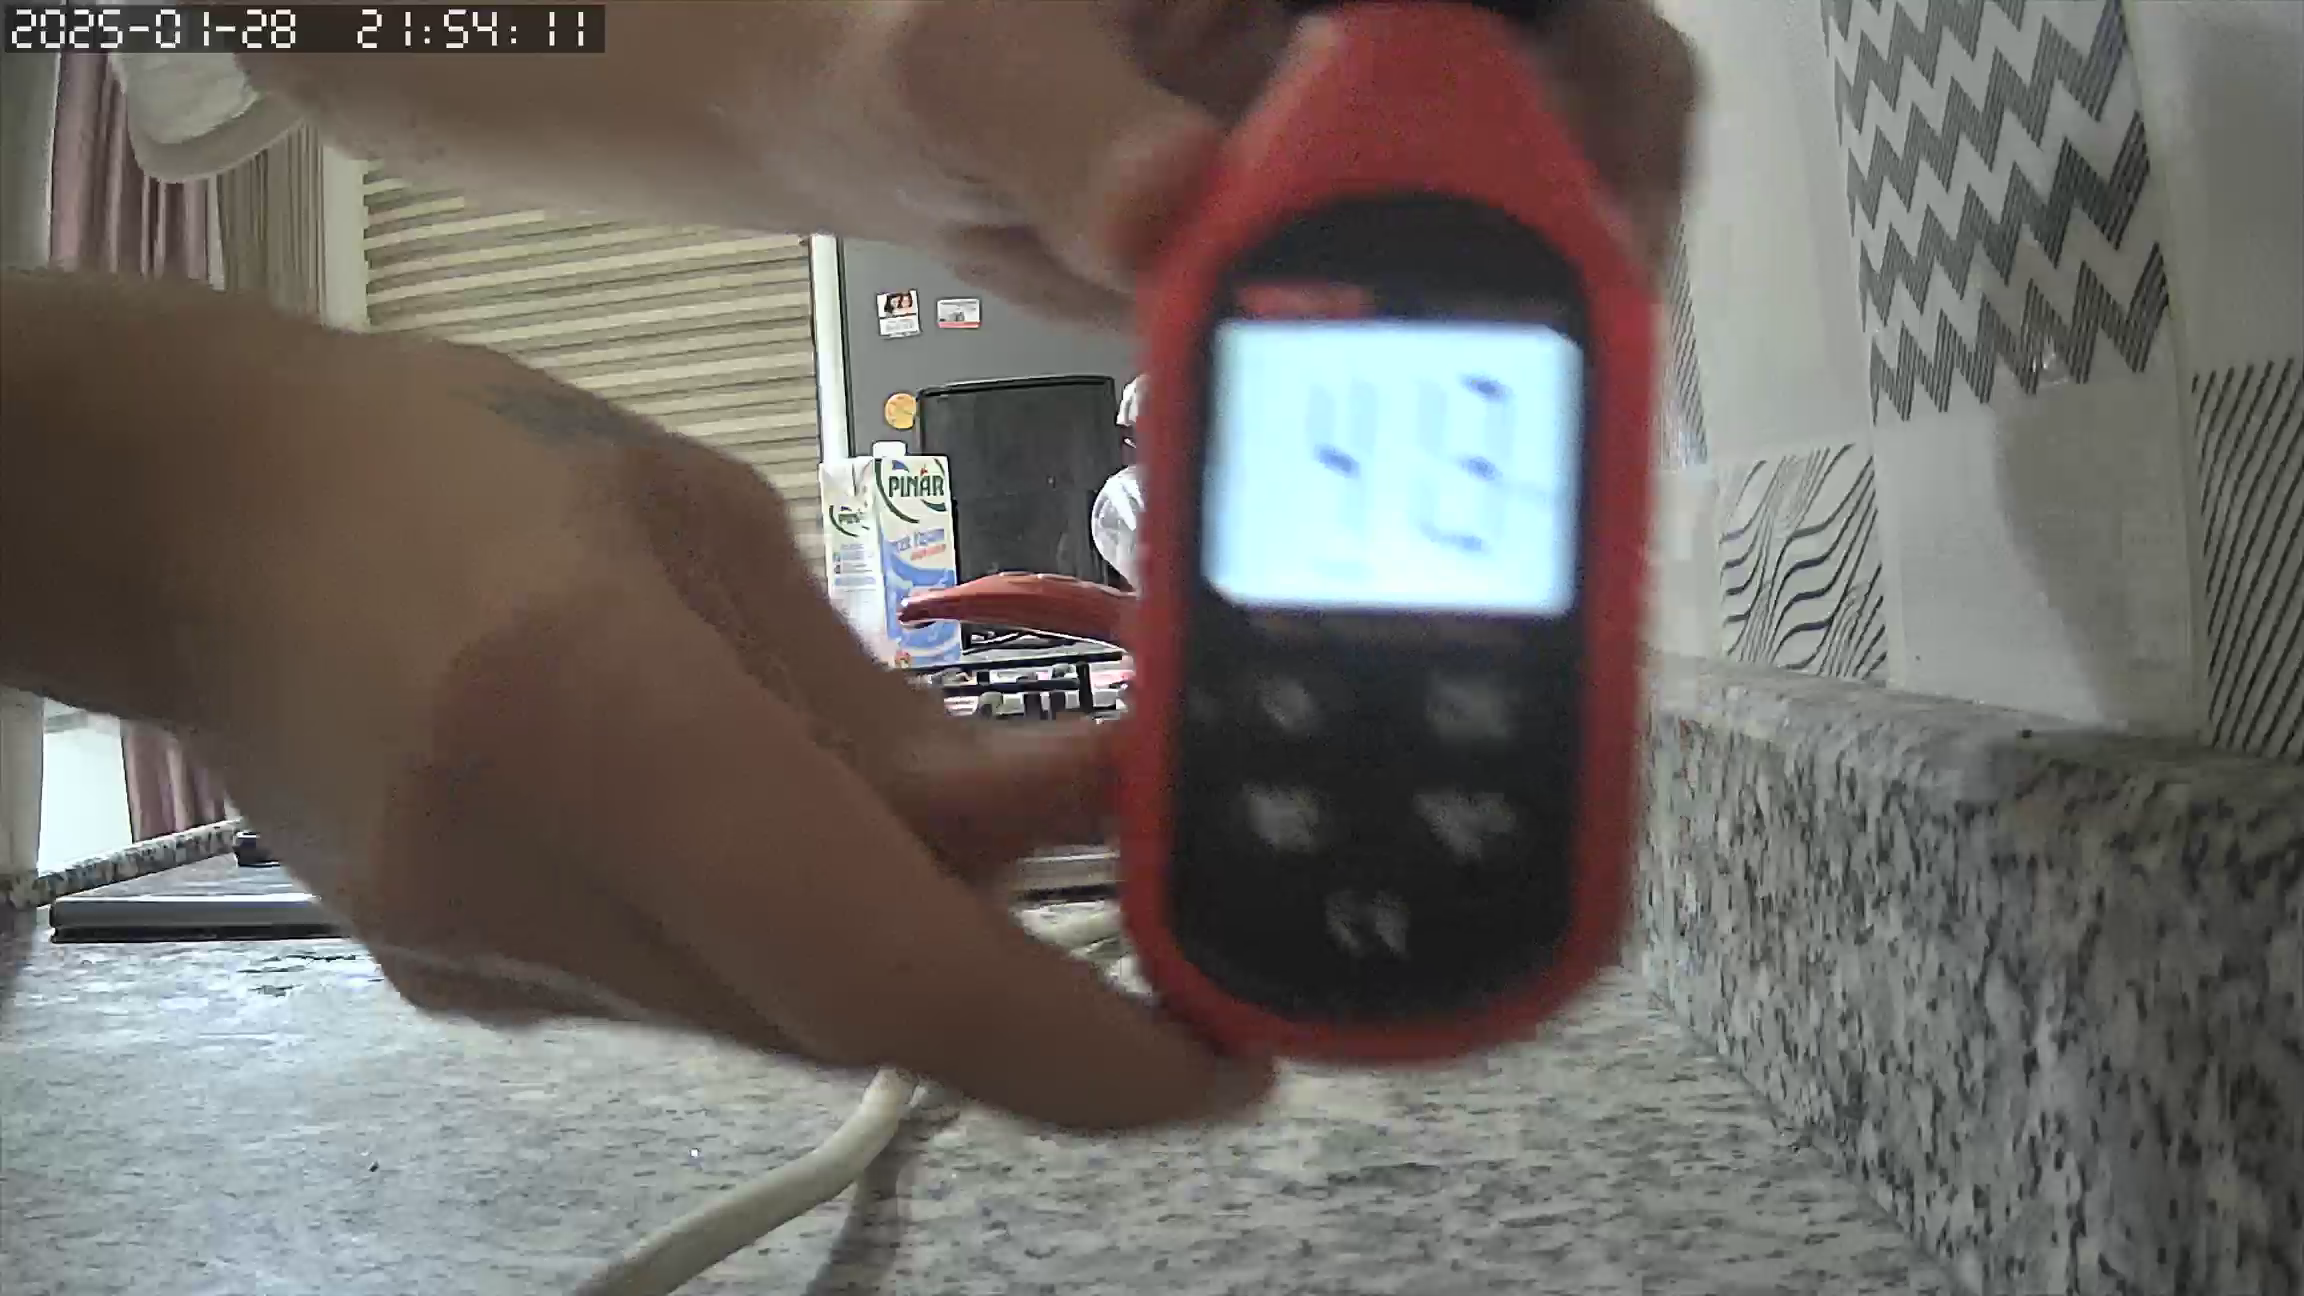screen: (1206, 318, 1584, 617)
